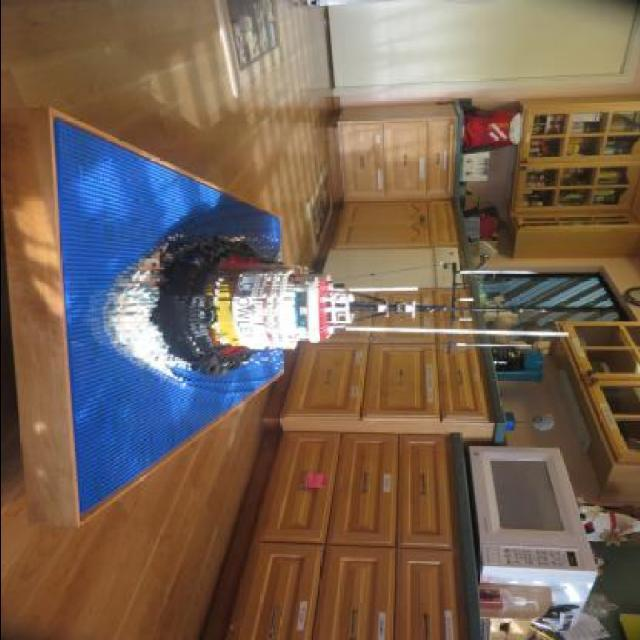Cake: (114, 235, 352, 372)
